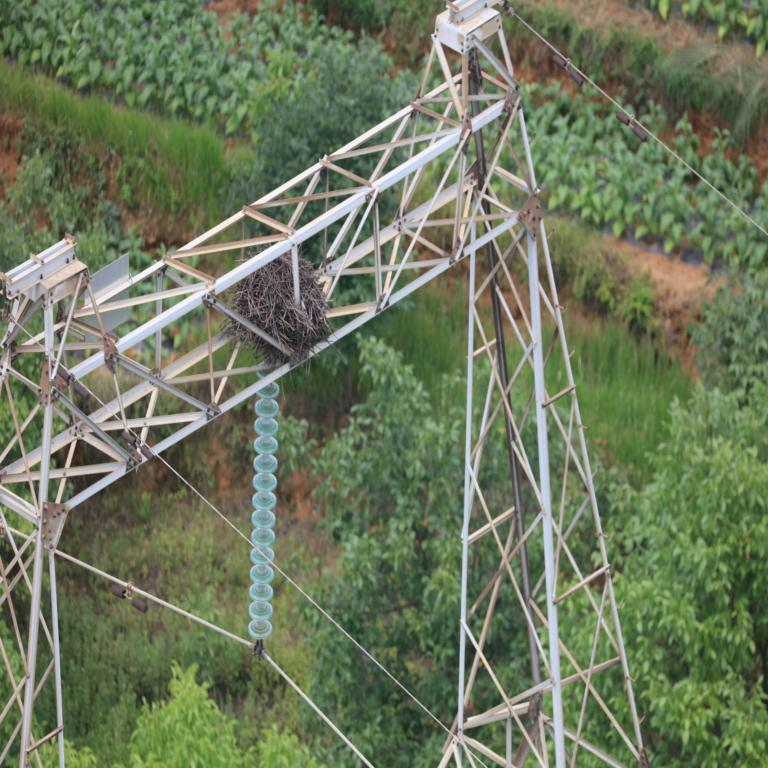nest: (226, 252, 325, 356)
